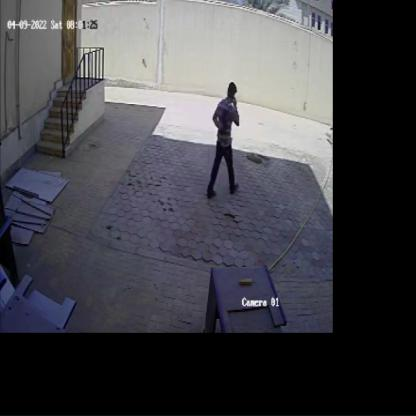handgun: (217, 106, 232, 139)
